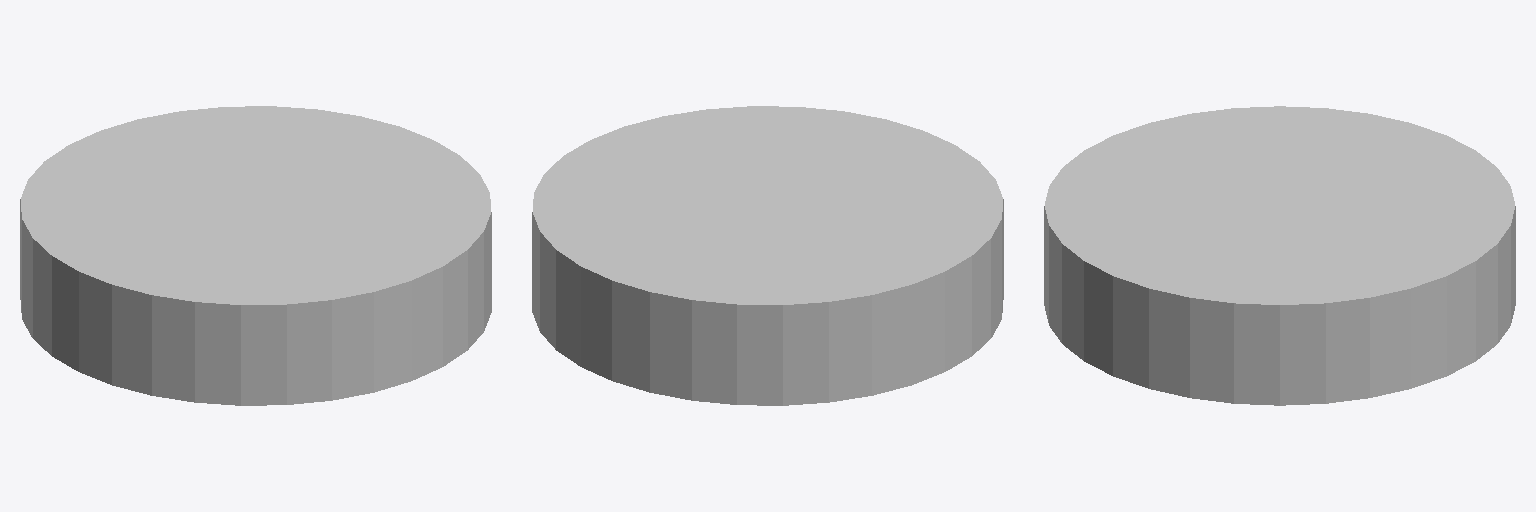
The robot description file, URDF, robot "iRobot":
<?xml version="1.0" ?>
<!-- =================================================================================== -->
<!-- |    This document was autogenerated by xacro from iRobot.urdf.xacro              | -->
<!-- |    EDITING THIS FILE BY HAND IS NOT RECOMMENDED                                 | -->
<!-- =================================================================================== -->
<robot name="iRobot" xmlns:xacro="http://www.ros.org/wiki/xacro">
  <!-- MODELS -->
  <material name="iRobot/Green">
    <color rgba="0.0 1.0 0.0 1.0"/>
  </material>
  <material name="iRobot/Yellow">
    <color rgba="1.0 1.0 0.0 1.0"/>
  </material>
  <material name="iRobot/LightYellow">
    <color rgba="1.0 1.0 0.6 1.0"/>
  </material>
  <material name="iRobot/Blue">
    <color rgba="0.0 0.0 1.0 1.0"/>
  </material>
  <material name="iRobot/LightBlue">
    <color rgba="0.6 0.79 1.0 1.0"/>
  </material>
  <material name="iRobot/DarkGrey">
    <color rgba="0.31 0.31 0.31 1.0"/>
  </material>
  <material name="iRobot/LightGrey">
    <color rgba="0.83 0.83 0.83 1.0"/>
  </material>
  <material name="iRobot/MediumGrey">
    <color rgba="0.5 0.5 0.5 1.0"/>
  </material>
  <material name="iRobot/Black">
    <color rgba="0.0 0.0 0.0 1.0"/>
  </material>
  <material name="iRobot/Red">
    <color rgba="1.0 0.0 0.0 1.0"/>
  </material>
  <material name="iRobot/Orange">
    <color rgba="1.0 0.65 0.0 1.0"/>
  </material>
  <link name="base_link">
    <inertial>
      <origin rpy="0 0 0" xyz="0 0 0"/>
      <mass value="0"/>
      <inertia ixx="0.0" ixy="0.0" ixz="0.0" iyy="0.0" iyz="0.0" izz="0.0"/>
    </inertial>
  </link>
  <joint name="base_joint" type="fixed">
    <origin rpy="0 0 0" xyz="0 0 0"/>
    <parent link="base_link"/>
    <child link="chassis"/>
  </joint>
  <link name="chassis">
    <inertial>
      <origin rpy="0 0 0" xyz="0 0 0"/>
      <mass value="10"/>
      <inertia ixx="0.425" ixy="0.0" ixz="0.0" iyy="0.425" iyz="0.0" izz="0.85"/>
    </inertial>
    <visual>
      <origin rpy="0 0 0" xyz="0 0 0"/>
      <geometry>
        <cylinder length="0.08" radius="0.17"/>
      </geometry>
      <material name="iRobot/LightGrey"/>
    </visual>
    <collision>
      <origin rpy="0 0 0" xyz="0 0 0"/>
      <geometry>
        <cylinder length="0.08" radius="0.17"/>
      </geometry>
    </collision>
  </link>
  <joint name="left_axis_base_joint" type="fixed">
    <origin rpy="0 0 0" xyz="0 0.14 -0.02"/>
    <parent link="chassis"/>
    <child link="left_axis"/>
  </joint>
  <link name="left_axis">
    <inertial>
      <origin rpy="-1.57079632679 0 0" xyz="0 0 0"/>
      <mass value="0.001"/>
      <inertia ixx="6.25e-07" ixy="0.0" ixz="0.0" iyy="6.25e-07" iyz="0.0" izz="2.08333333333e-07"/>
    </inertial>
    <visual>
      <origin rpy="-1.57079632679 0 0" xyz="0 0 0"/>
      <geometry>
        <cylinder length="0.02" radius="0.0025"/>
      </geometry>
      <material name="iRobot/MediumGray"/>
    </visual>
    <collision>
      <origin rpy="-1.57079632679 0 0" xyz="0 0 0"/>
      <geometry>
        <cylinder length="0.02" radius="0.0025"/>
      </geometry>
    </collision>
  </link>
  <gazebo reference="left_axis_axis">
    <gravity>true</gravity>
    <material>Gazebo/Red</material>
    <mu1>0.8</mu1>
    <mu2>0.8</mu2>
  </gazebo>
  <joint name="left_wheel_rot_joint" type="continuous">
    <origin rpy="0 0 0" xyz="0 0 0"/>
    <axis xyz="0 1 0"/>
    <limit effort="100" velocity="100"/>
    <joint_properties damping="0.0" friction="0.0"/>
    <parent link="left_axis"/>
    <child link="left_wheel_link"/>
  </joint>
  <link name="left_wheel_link">
    <inertial>
      <origin rpy="-1.57079632679 0 0" xyz="0 0.01 0"/>
      <mass value="0.5"/>
      <inertia ixx="0.00375" ixy="0.0" ixz="0.0" iyy="0.00375" iyz="0.0" izz="0.00125"/>
    </inertial>
    <visual>
      <origin rpy="-1.57079632679 0 0" xyz="0 0 0"/>
      <geometry>
        <cylinder length="0.02" radius="0.03"/>
      </geometry>
      <material name="iRobot/Black"/>
    </visual>
    <collision>
      <origin rpy="-1.57079632679 0 0" xyz="0 0 0"/>
      <geometry>
        <cylinder length="0.02" radius="0.03"/>
      </geometry>
    </collision>
  </link>
  <gazebo reference="left_wheel_link">
    <gravity>true</gravity>
    <material>Gazebo/Grey</material>
    <mu1>50</mu1>
    <mu2>10</mu2>
    <kp>10000000</kp>
    <kd>1</kd>
    <fdir1>1 0 0</fdir1>
    <minDepth>0.0001</minDepth>
    <maxContacts>1</maxContacts>
  </gazebo>
  <joint name="right_axis_base_joint" type="fixed">
    <origin rpy="0 0 0" xyz="0 -0.14 -0.02"/>
    <parent link="chassis"/>
    <child link="right_axis"/>
  </joint>
  <link name="right_axis">
    <inertial>
      <origin rpy="-1.57079632679 0 0" xyz="0 0 0"/>
      <mass value="0.001"/>
      <inertia ixx="6.25e-07" ixy="0.0" ixz="0.0" iyy="6.25e-07" iyz="0.0" izz="2.08333333333e-07"/>
    </inertial>
    <visual>
      <origin rpy="-1.57079632679 0 0" xyz="0 0 0"/>
      <geometry>
        <cylinder length="0.02" radius="0.0025"/>
      </geometry>
      <material name="iRobot/MediumGray"/>
    </visual>
    <collision>
      <origin rpy="-1.57079632679 0 0" xyz="0 0 0"/>
      <geometry>
        <cylinder length="0.02" radius="0.0025"/>
      </geometry>
    </collision>
  </link>
  <gazebo reference="right_axis_axis">
    <gravity>true</gravity>
    <material>Gazebo/Red</material>
    <mu1>0.8</mu1>
    <mu2>0.8</mu2>
  </gazebo>
  <joint name="right_wheel_rot_joint" type="continuous">
    <origin rpy="0 0 0" xyz="0 0 0"/>
    <axis xyz="0 1 0"/>
    <limit effort="100" velocity="100"/>
    <joint_properties damping="0.0" friction="0.0"/>
    <parent link="right_axis"/>
    <child link="right_wheel_link"/>
  </joint>
  <link name="right_wheel_link">
    <inertial>
      <origin rpy="-1.57079632679 0 0" xyz="0 0.01 0"/>
      <mass value="0.5"/>
      <inertia ixx="0.00375" ixy="0.0" ixz="0.0" iyy="0.00375" iyz="0.0" izz="0.00125"/>
    </inertial>
    <visual>
      <origin rpy="-1.57079632679 0 0" xyz="0 0 0"/>
      <geometry>
        <cylinder length="0.02" radius="0.03"/>
      </geometry>
      <material name="iRobot/Black"/>
    </visual>
    <collision>
      <origin rpy="-1.57079632679 0 0" xyz="0 0 0"/>
      <geometry>
        <cylinder length="0.02" radius="0.03"/>
      </geometry>
    </collision>
  </link>
  <gazebo reference="right_wheel_link">
    <gravity>true</gravity>
    <material>Gazebo/Grey</material>
    <mu1>50</mu1>
    <mu2>10</mu2>
    <kp>10000000</kp>
    <kd>1</kd>
    <fdir1>1 0 0</fdir1>
    <minDepth>0.0001</minDepth>
    <maxContacts>1</maxContacts>
  </gazebo>
  <joint name="sphere_joint1" type="revolute">
    <origin rpy="0 0 0" xyz="0.14 0 -0.04"/>
    <axis xyz="0 0 1"/>
    <limit effort="100" lower="0" upper="0" velocity="100"/>
    <parent link="chassis"/>
    <child link="sphere1"/>
  </joint>
  <link name="sphere1">
    <inertial>
      <origin rpy="0 0 0" xyz="0 0 0"/>
      <mass value="0.3"/>
      <inertia ixx="0.0012" ixy="0.0" ixz="0.0" iyy="0.0012" iyz="0.0" izz="0.0012"/>
    </inertial>
    <visual>
      <origin rpy="0 0 0" xyz="0 0 0"/>
      <geometry>
        <sphere radius="0.01"/>
      </geometry>
      <material name="iRobot/Black"/>
    </visual>
    <collision>
      <origin rpy="0 0 0" xyz="0 0 0"/>
      <geometry>
        <sphere radius="0.01"/>
      </geometry>
    </collision>
  </link>
  <joint name="sphere_joint2" type="revolute">
    <origin rpy="0 0 0" xyz="-0.14 0 -0.04"/>
    <axis xyz="0 0 1"/>
    <limit effort="100" lower="0" upper="0" velocity="100"/>
    <parent link="chassis"/>
    <child link="sphere2"/>
  </joint>
  <link name="sphere2">
    <inertial>
      <origin rpy="0 0 0" xyz="0 0 0"/>
      <mass value="0.3"/>
      <inertia ixx="0.0012" ixy="0.0" ixz="0.0" iyy="0.0012" iyz="0.0" izz="0.0012"/>
    </inertial>
    <visual>
      <origin rpy="0 0 0" xyz="0 0 0"/>
      <geometry>
        <sphere radius="0.01"/>
      </geometry>
      <material name="iRobot/Black"/>
    </visual>
    <collision>
      <origin rpy="0 0 0" xyz="0 0 0"/>
      <geometry>
        <sphere radius="0.01"/>
      </geometry>
    </collision>
  </link>
</robot>

--- What the picture shows (computed from the rendered views, not written in the file) ---
3 views of the same robot in one strip: view 1: azimuth 30°, elevation 25°; view 2: azimuth 150°, elevation 25°; view 3: azimuth 270°, elevation 25° (orthographic).
Model iRobot with 8 links and 7 joints (2 revolute, 2 continuous, 3 fixed), rooted at base_link, posed all joints at 0.
Visible links, largest first — view 1: chassis; view 2: chassis; view 3: chassis.
Link boxes in pixels (left/top/right/bottom): chassis: left=20, top=106, right=491, bottom=405; chassis: left=532, top=106, right=1003, bottom=405; chassis: left=1044, top=106, right=1515, bottom=405.
Size in the robot's own frame: 0.34 by 0.34 by 0.09 metres.
Geometry: primitives only (box / cylinder / sphere), no mesh files.